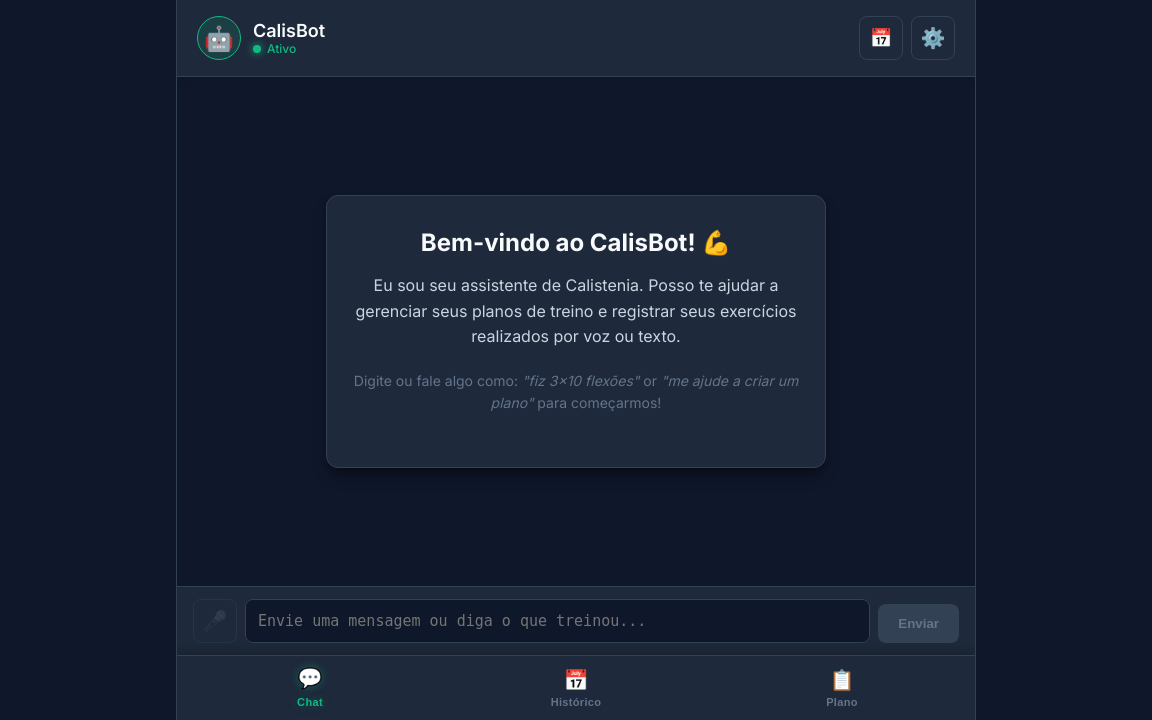
Test case: CalisBot App & Components › displays active plan when command ver meu plano is sent
In the text box with placeholder "Envie uma mensagem ou diga o que treinou...": [558, 621] box [245,599,870,643], type "ver meu plano"
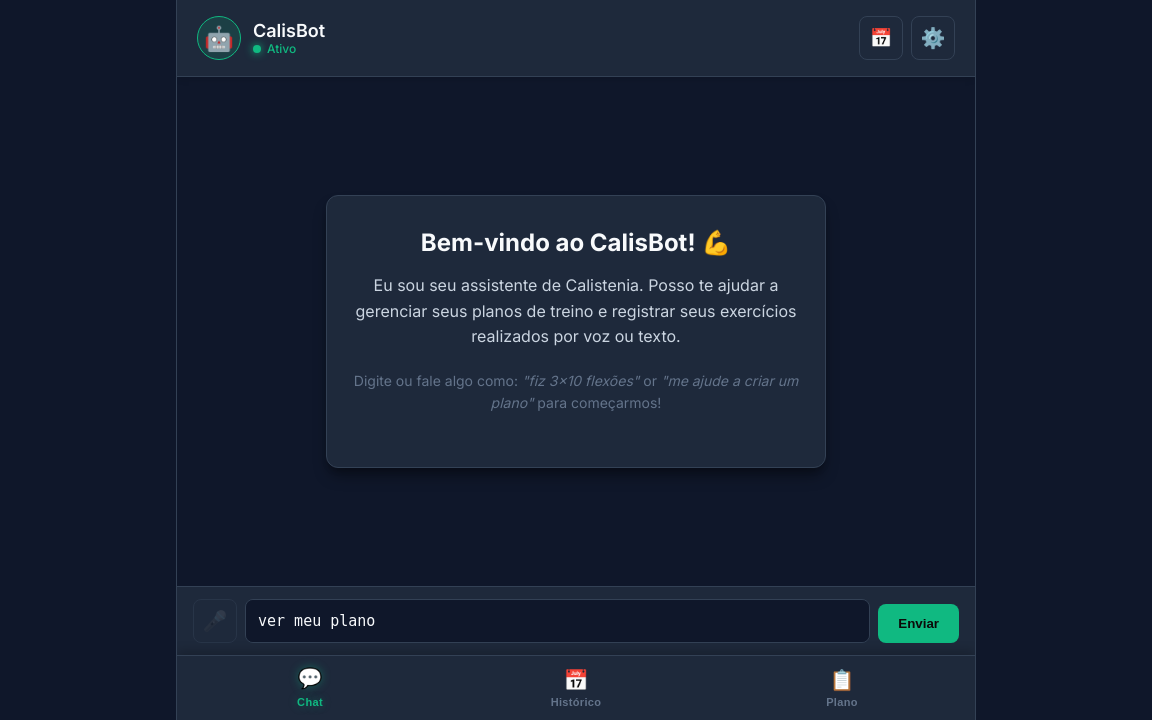
Click the button with aria-label "Enviar mensagem": [919, 624] box [878,604,959,643]
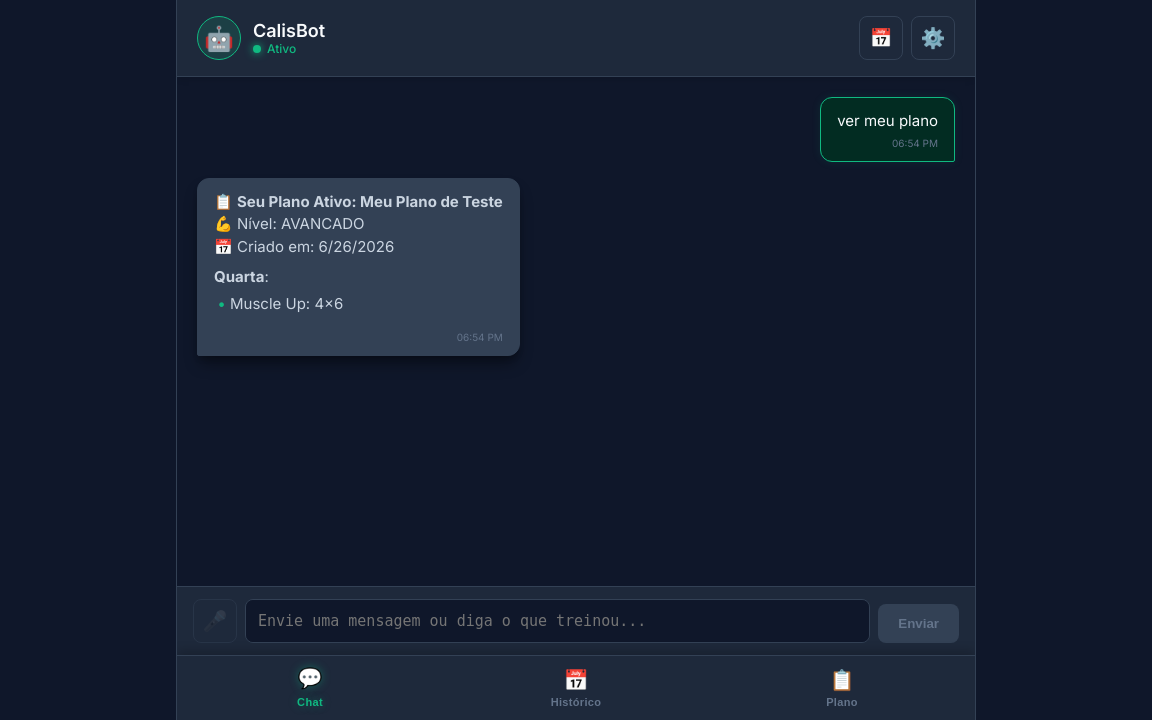
Expected: the text "Seu Plano Ativo: Meu Plano de Teste" is shown, [237,192,503,210]
Expected: the text "Quarta" is shown, [214,267,264,286]
Expected: the list item "Muscle Up: 4x6" is shown, [230,294,343,312]
